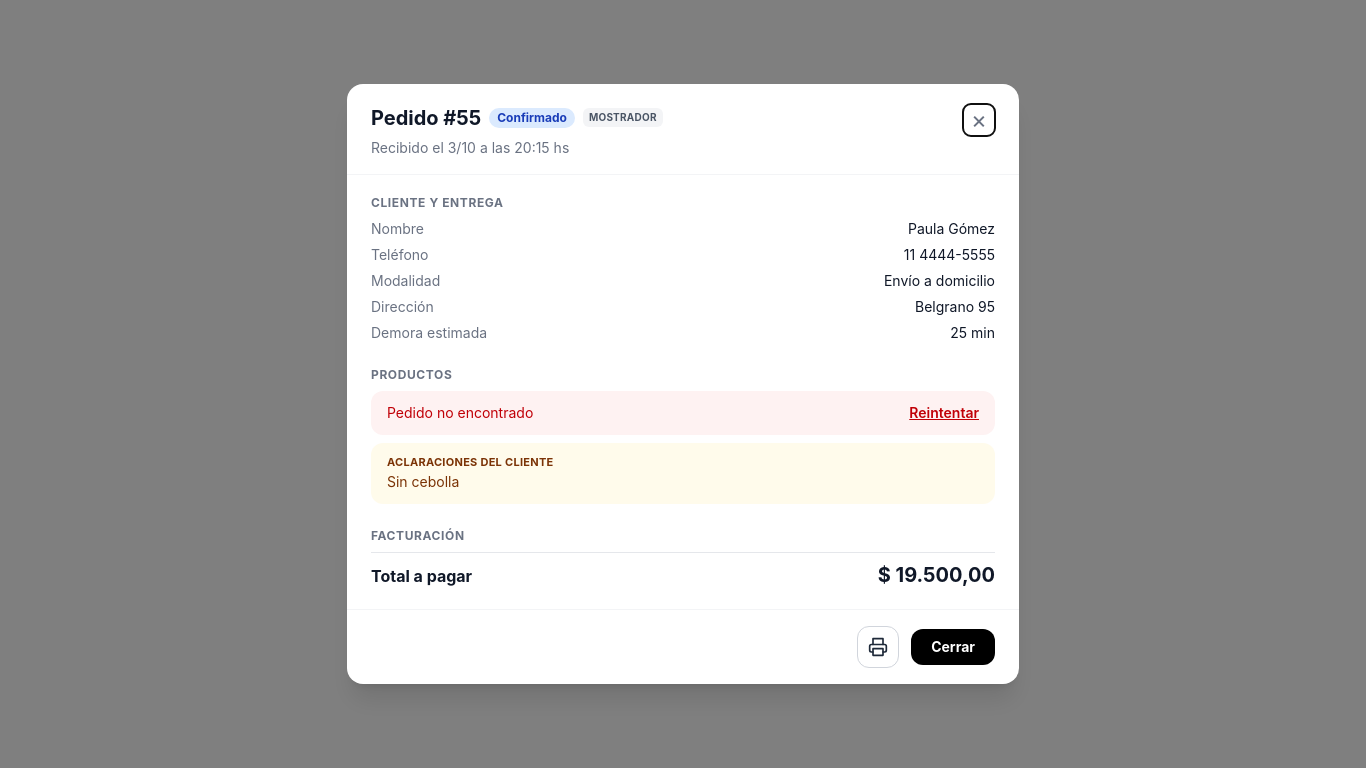
it: OrderDetailModal › si falla la carga del detalle permite reintentar
Expected: the message shows "Pedido no encontrado", [387,404,533,421]
Click the button "Reintentar". click: (944, 413)
box: [909,403,979,423]
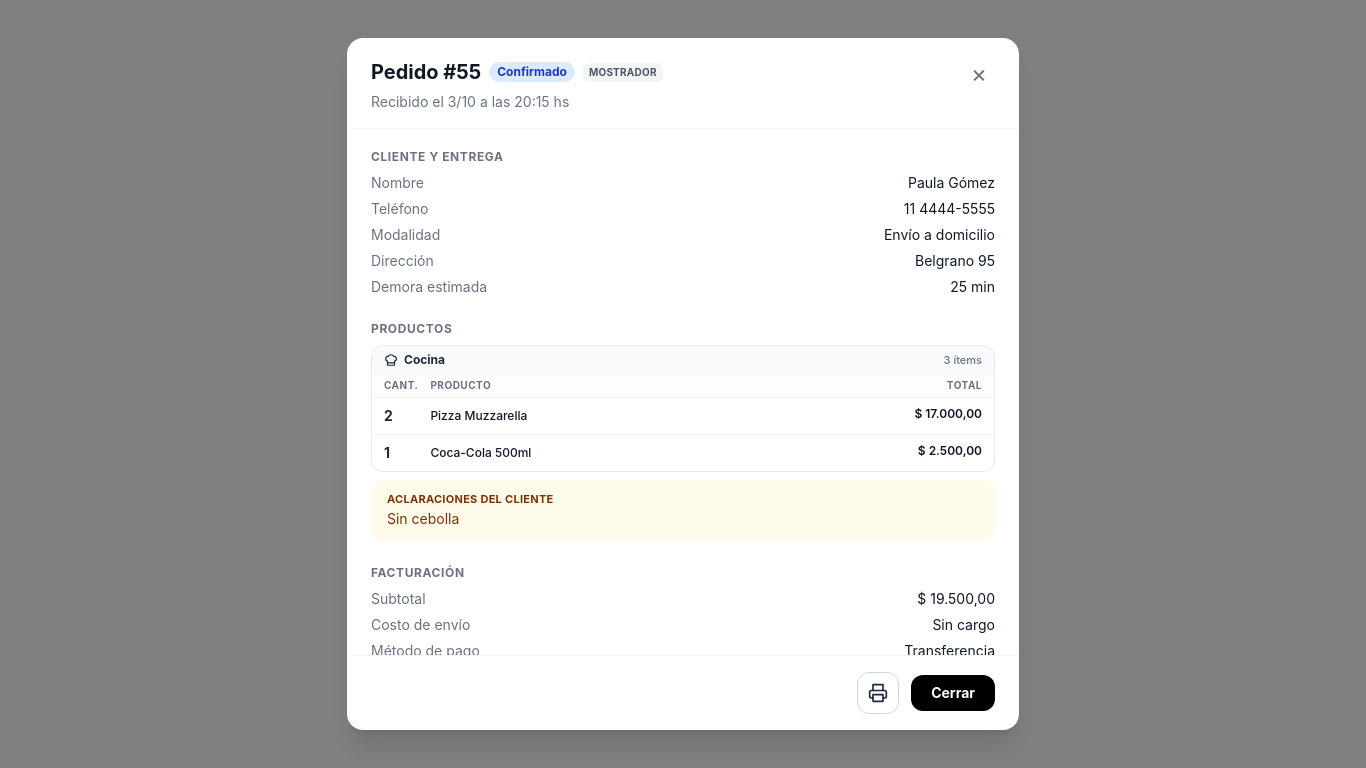
Now the text "Pizza Muzzarella" is shown, box [430,408,527,424]
